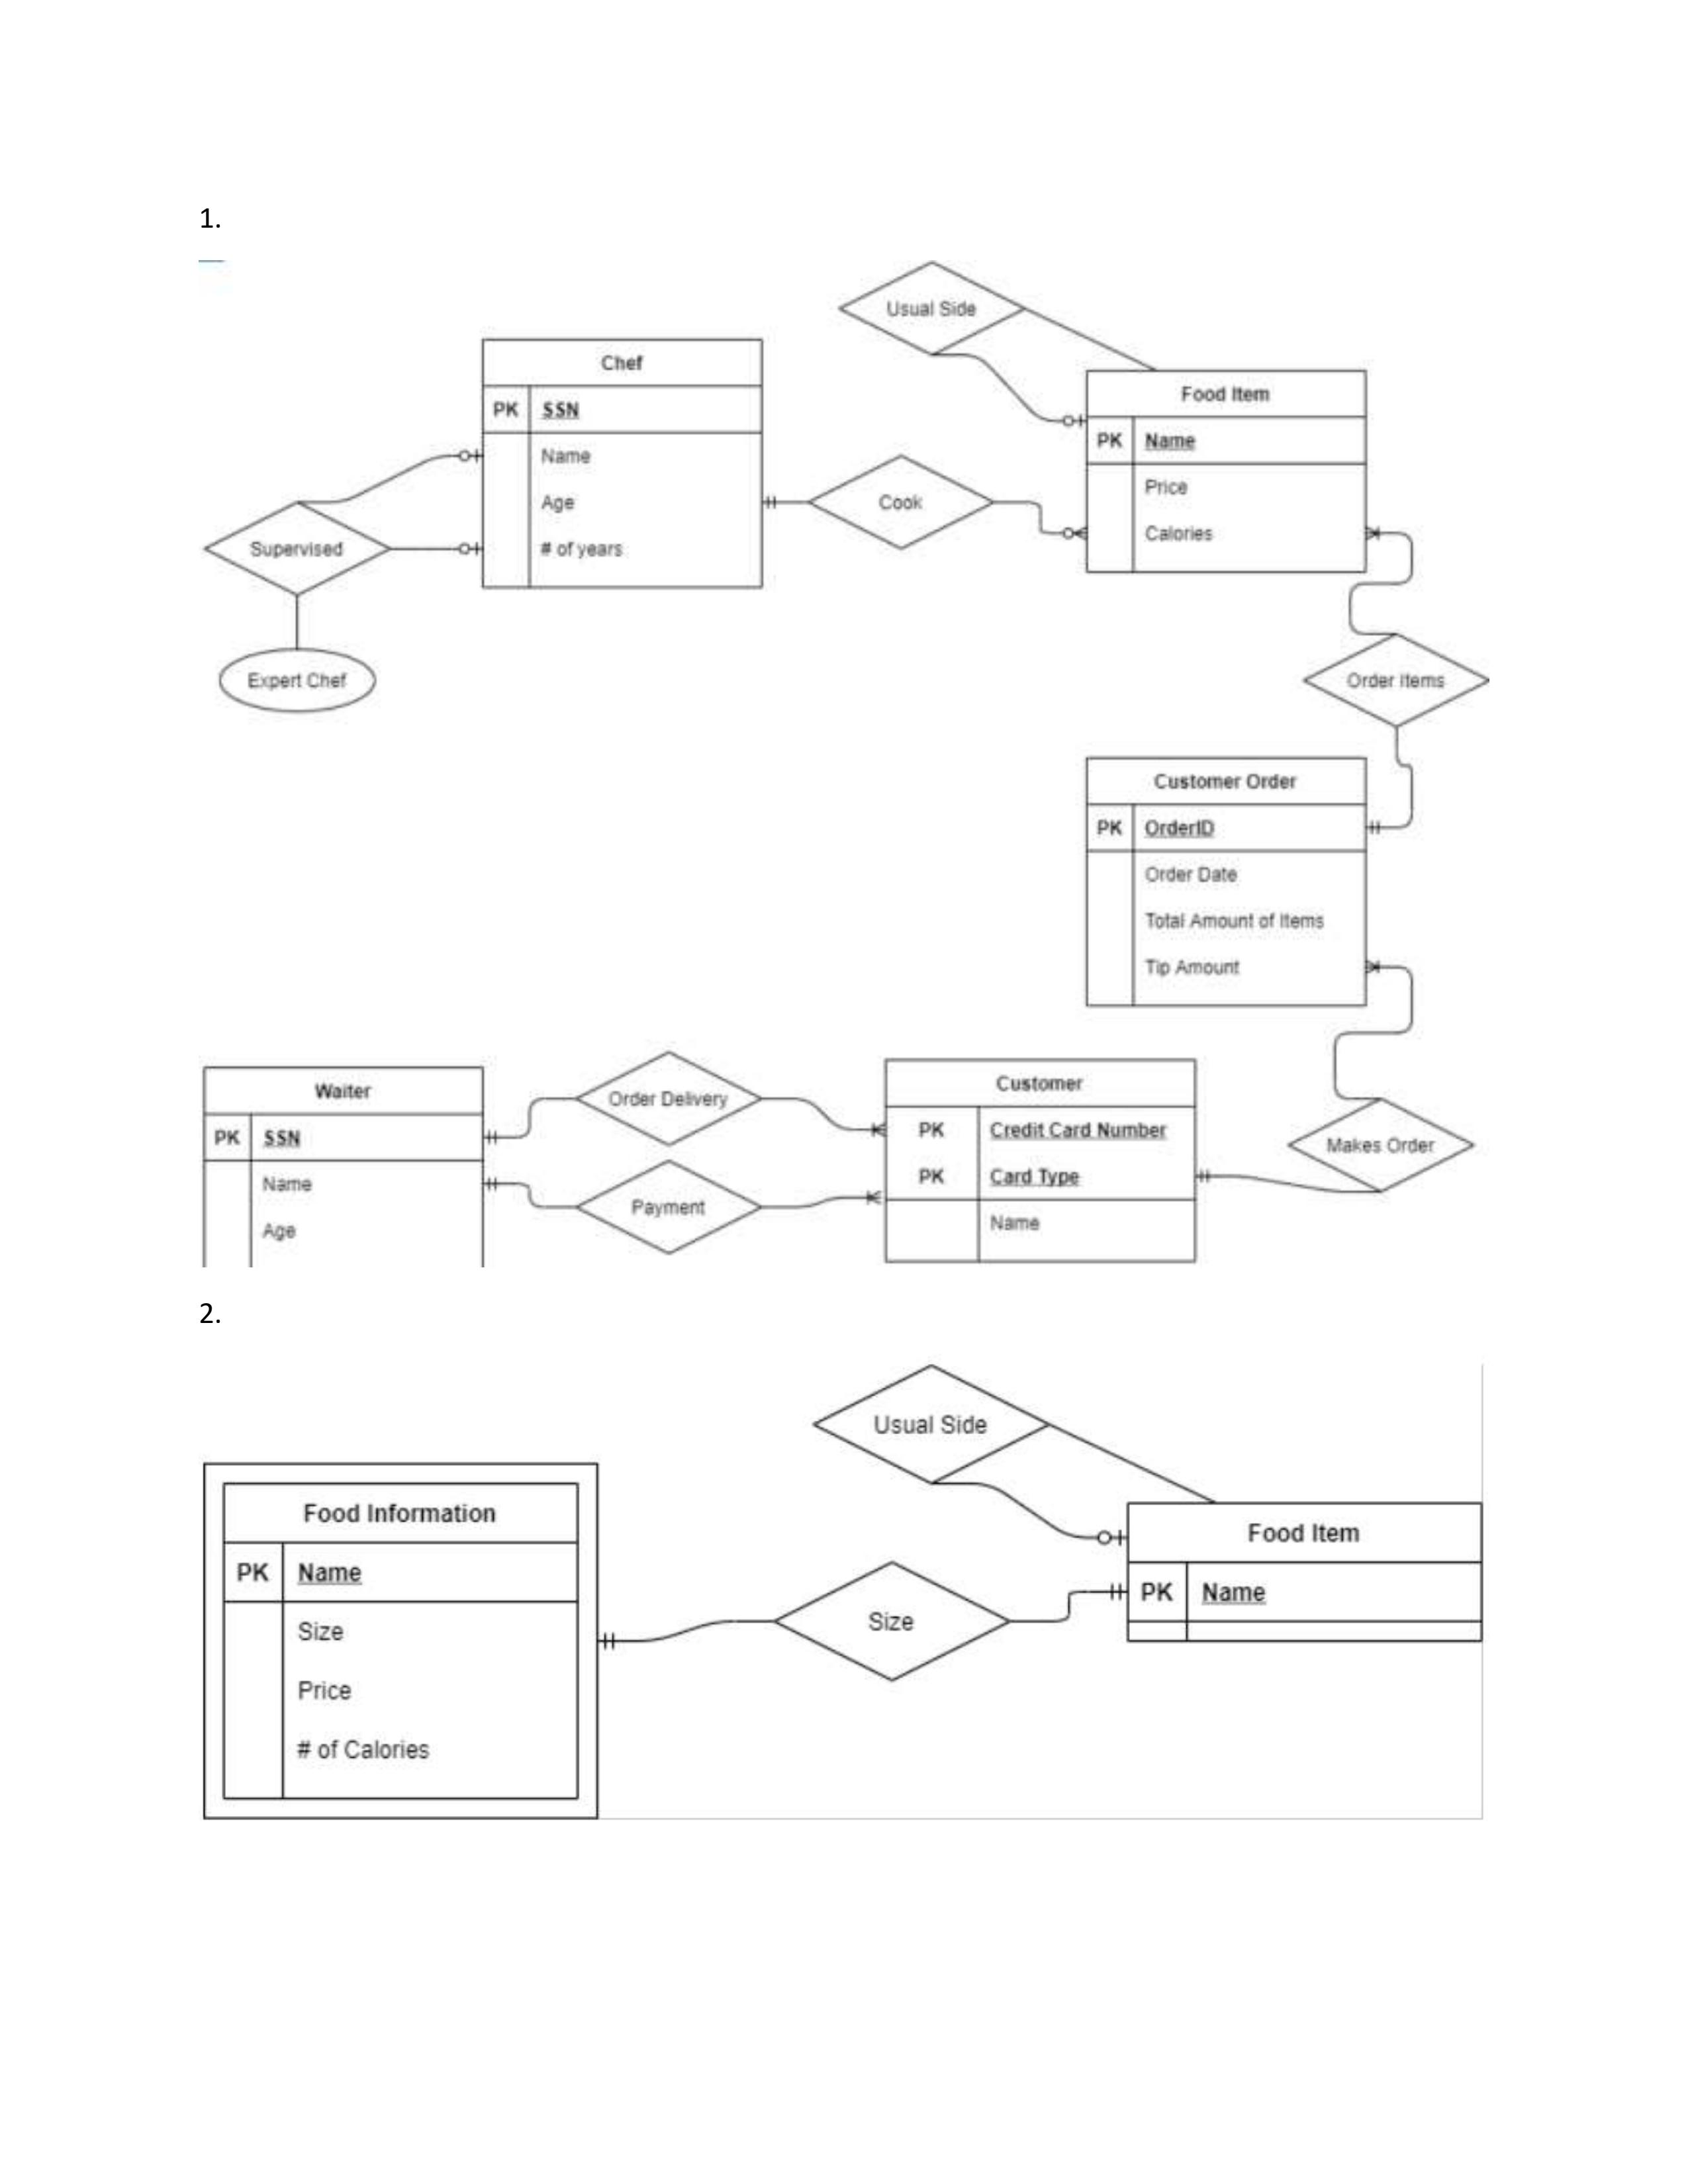Attribute: (218, 647, 378, 713)
Entity: (220, 1480, 580, 1803), (481, 337, 764, 590), (1085, 757, 1369, 1007), (883, 1055, 1199, 1264), (200, 1065, 486, 1271), (1085, 369, 1367, 574), (1126, 1501, 1484, 1643)
Relationship: (777, 1560, 1009, 1682), (812, 1363, 1048, 1482), (576, 1049, 762, 1147), (1287, 1097, 1475, 1193), (837, 261, 1027, 355), (807, 454, 993, 550), (576, 1159, 762, 1255), (204, 502, 392, 596), (1303, 635, 1489, 727)
